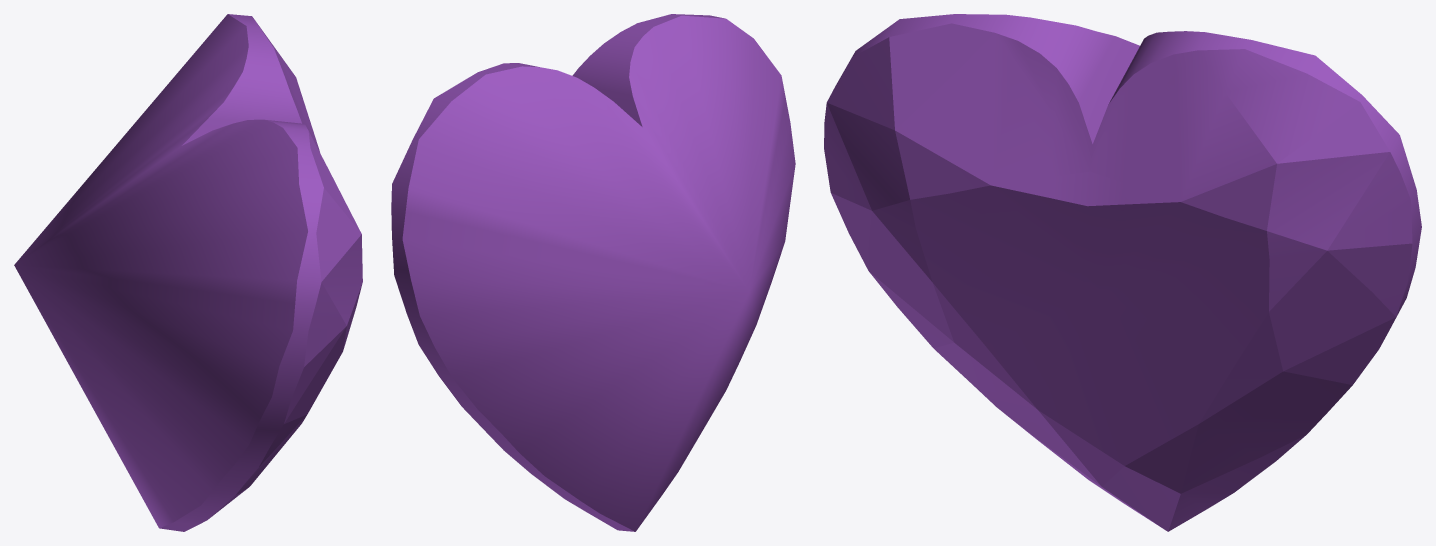
File: TR5_8shapes_heart_Classic_Stone.001 3.glb
3 renders of one model, left to right at view 1: azimuth 30°, elevation 25°; view 2: azimuth 150°, elevation 25°; view 3: azimuth 270°, elevation 25°, orthographic. The views are drawn at different scales.
Visible parts, largest first — view 1: TR5_8shapes_heart_Classic_Stone.001; view 2: TR5_8shapes_heart_Classic_Stone.001; view 3: TR5_8shapes_heart_Classic_Stone.001.
Boxes of the visible parts, x1,y1,x2,y2 form: TR5_8shapes_heart_Classic_Stone.001: (14,14,362,531); TR5_8shapes_heart_Classic_Stone.001: (391,14,795,531); TR5_8shapes_heart_Classic_Stone.001: (824,14,1421,531).
Bounding box in the file's own units: 0.3331 × 0.4702 × 0.4642.
